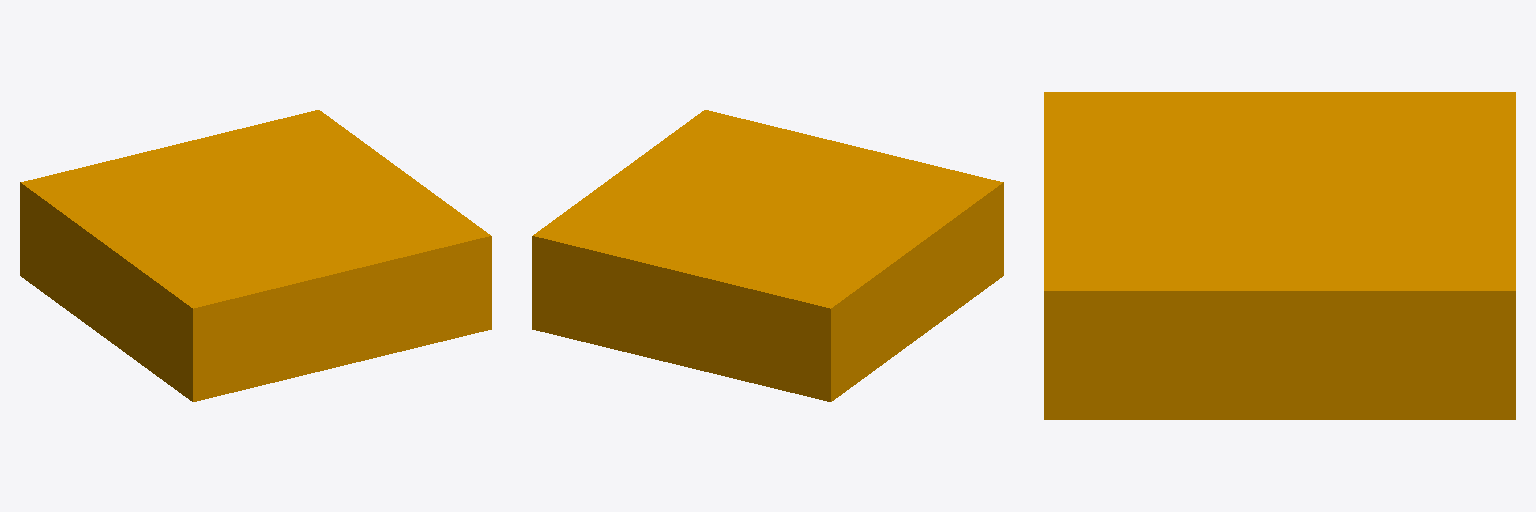
URDF robot description (SQ):
<?xml version="0.0" ?>
<robot name="SQ">
  <material name="Color">
    <color rgba="0.855, 0.086, 0.976, 1.0"/>
  </material>
  <link name="ST1">
    <inertial>
      <origin rpy="0 0 0" xyz="0 0 0"/>
       <mass value=".0"/>
       <inertia ixx="0" ixy="0" ixz="0" iyy="0" iyz="0" izz="0"/>
    </inertial>
    <visual>
      <origin rpy="0 0 0" xyz="0 0 0"/>
      <geometry>
		<mesh filename="SQ.obj" scale="0.001 0.001 0.001"/>
      </geometry>
      <material name="Color"/>
    </visual>
    <collision>
      <origin rpy="0 0 0" xyz="0 0 0"/>
      <geometry>
	 	<mesh filename="SQ.obj" scale="1 1 1"/>
      </geometry>
    </collision>
  </link>
</robot>

--- Facts derived from the render (not from the file) ---
3 views of the same robot in one strip: view 1: azimuth 30°, elevation 25°; view 2: azimuth 150°, elevation 25°; view 3: azimuth 270°, elevation 25° (orthographic).
Model SQ with 1 links and 0 joints (none), rooted at ST1, posed all joints at 0.
Visible links, largest first — view 1: ST1; view 2: ST1; view 3: ST1.
Boxes of the visible links, x1=… form: ST1: x1=20, y1=110, x2=491, y2=401; ST1: x1=532, y1=110, x2=1003, y2=401; ST1: x1=1044, y1=92, x2=1515, y2=419.
Bounding box of the posed robot: 0.1 × 0.1 × 0.03 m (x, y, z).
Meshes: 1 distinct files referenced, 1 mesh visuals loaded (1 OBJ).